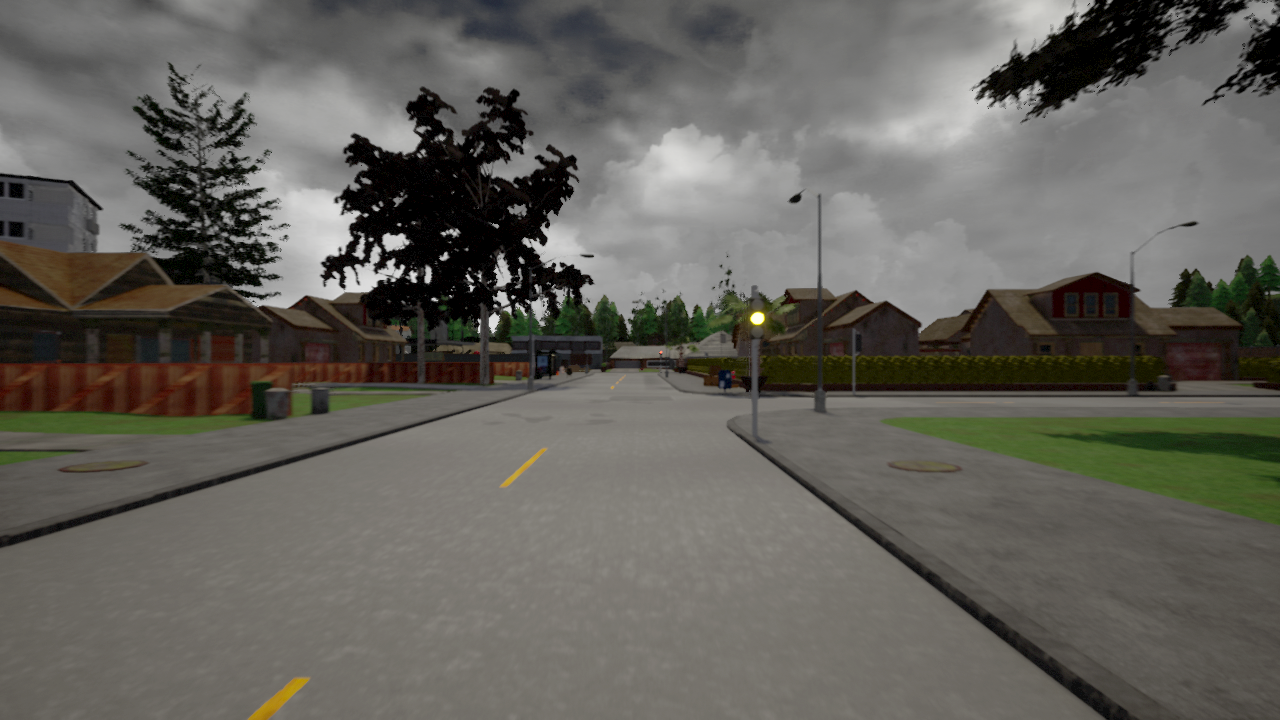yellow: (747, 295, 767, 338)
